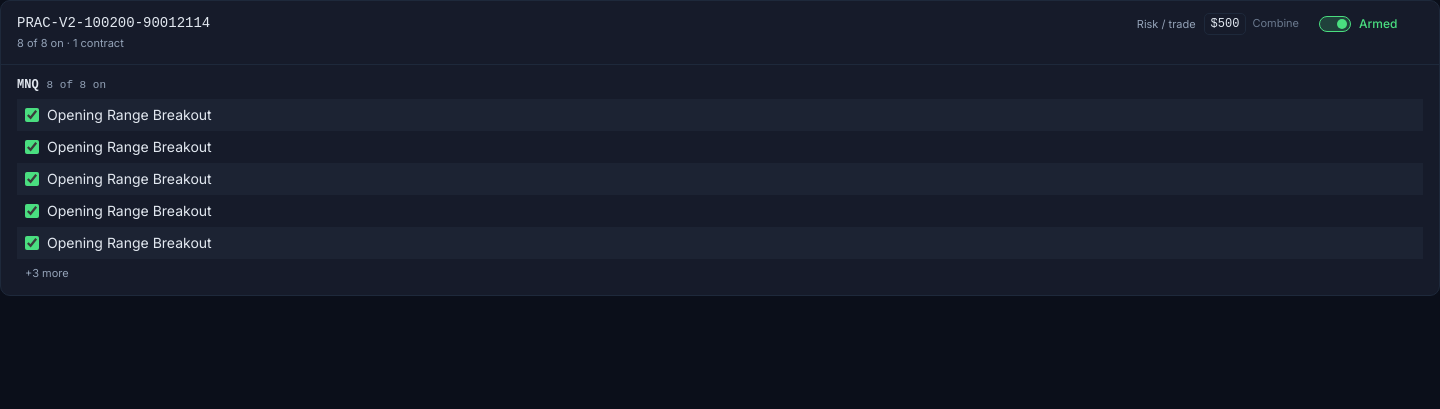
it: an account's line › collapses a long column to the first few with +N more, and the header still counts them all
Expected: the number of labels is 5, [25,106,212,123]; [25,138,212,155]; [25,170,212,187]; [25,202,212,219]; [25,234,212,251]
Step 1. Click the button "+3 more" → (47, 273), box [17,265,77,282]
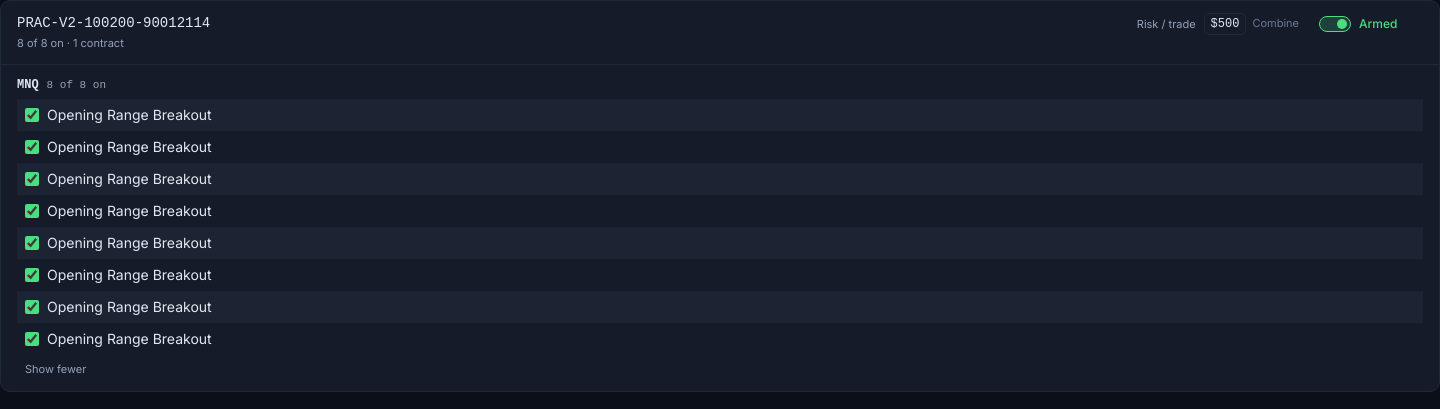
Result: the number of labels is 8
Step 2. Click the button "Show fewer" → (56, 369), box [17,361,94,378]
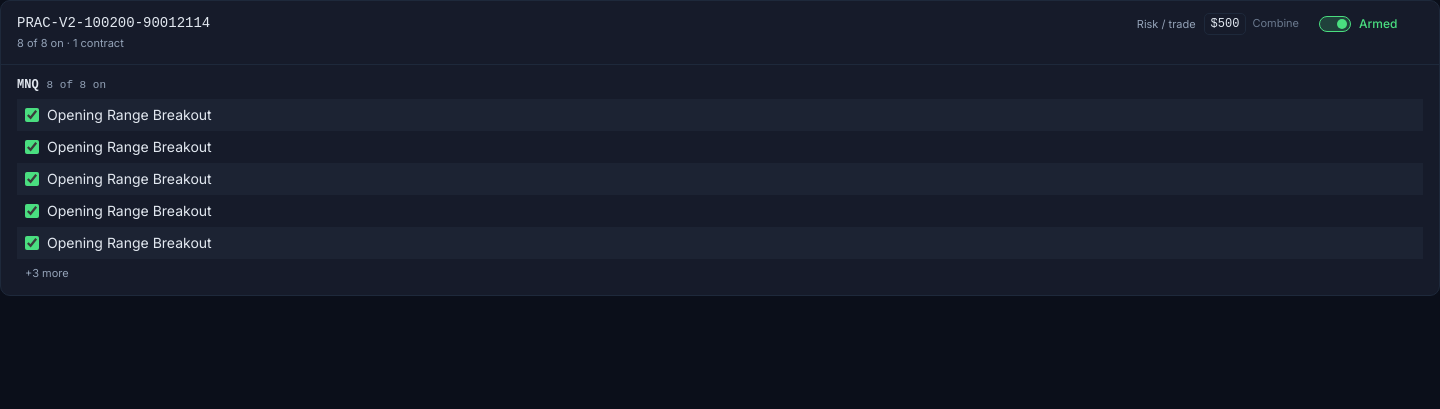
Result: the number of labels is 5 at [25,106,212,123]; [25,138,212,155]; [25,170,212,187]; [25,202,212,219]; [25,234,212,251]
